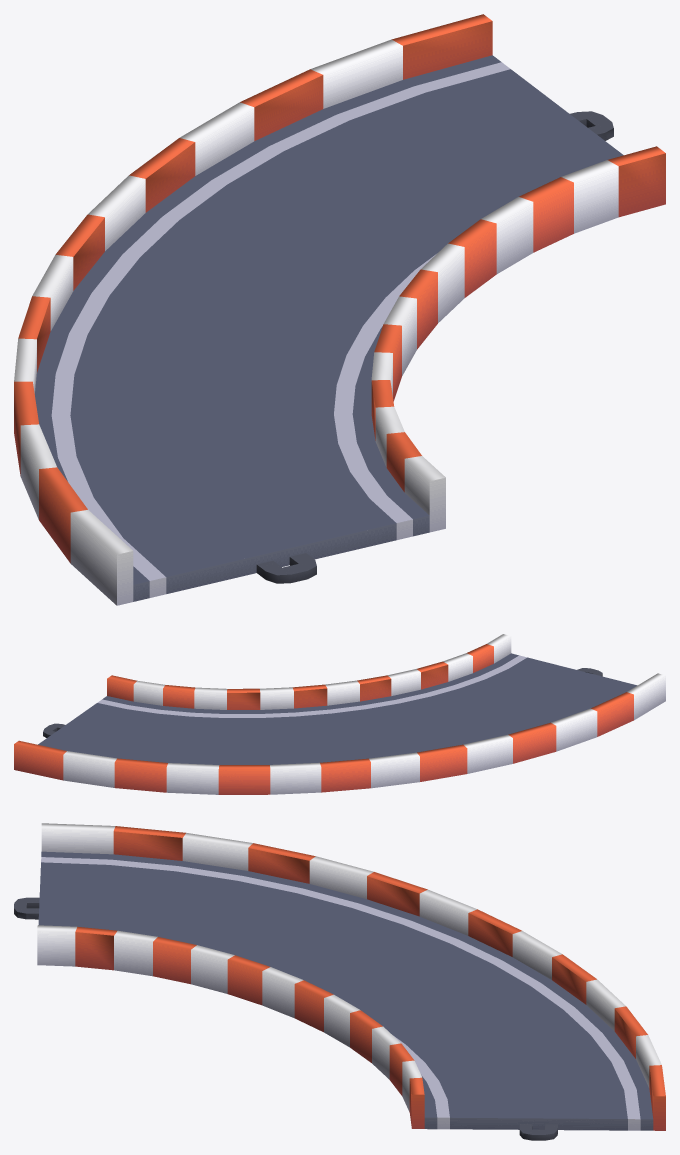
Rendered from track-road-wide-corner-large.025_lev2.glb.
3 views of the same model, one above another, from view 1: azimuth 30°, elevation 25°; view 2: azimuth 150°, elevation 25°; view 3: azimuth 270°, elevation 25° (orthographic). The views are drawn at different scales.
Visible parts, largest first — view 1: track-road-wide-corner-large.025_lev2; view 2: track-road-wide-corner-large.025_lev2; view 3: track-road-wide-corner-large.025_lev2.
Boxes of the visible parts, box(x1,y1,x2,y2) form: track-road-wide-corner-large.025_lev2: box(14, 14, 665, 605); track-road-wide-corner-large.025_lev2: box(14, 634, 665, 794); track-road-wide-corner-large.025_lev2: box(14, 823, 665, 1140).
Bounding box in the file's own units: 5.27 × 0.3 × 5.13.
1 material, 1 textured.
